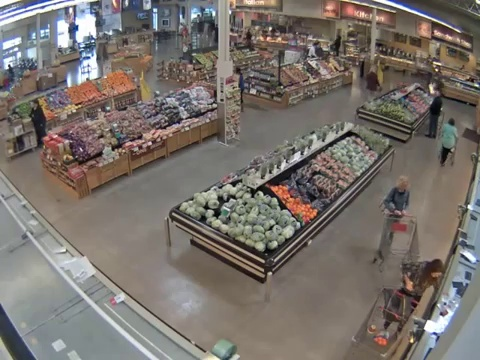face: (431, 268, 443, 280), (400, 179, 410, 189)
